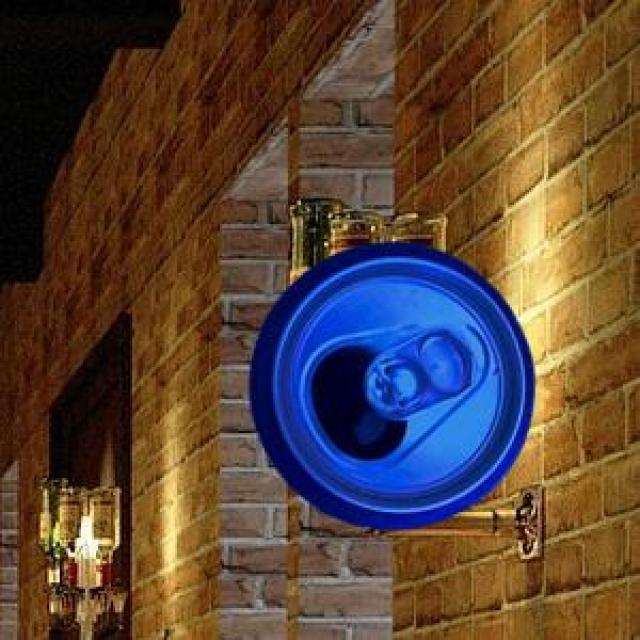logam: (246, 240, 530, 526)
